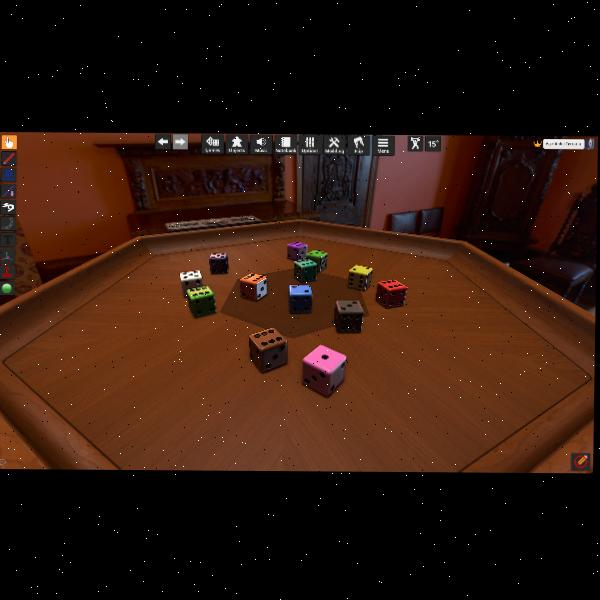d6: (306, 344, 347, 395), (249, 328, 289, 374), (186, 285, 217, 318), (333, 300, 362, 333), (374, 278, 405, 308), (239, 272, 267, 302), (180, 269, 206, 298), (347, 265, 373, 291), (288, 283, 311, 311), (293, 258, 317, 283), (306, 249, 327, 272), (209, 252, 229, 274), (287, 241, 306, 260)
